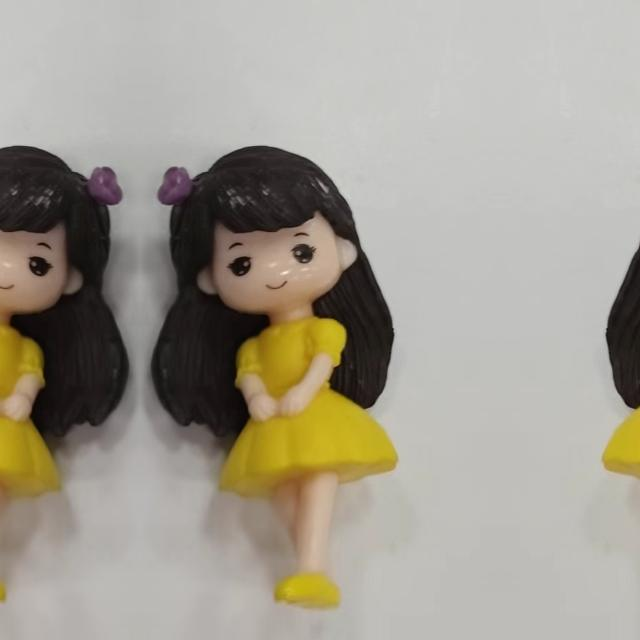woman dress: (212, 310, 402, 628), (0, 310, 68, 627), (598, 310, 640, 627)
woman head: (150, 132, 370, 308), (0, 132, 129, 307), (630, 132, 640, 307)
